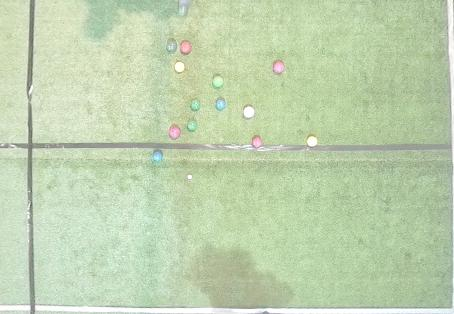blue: (216, 98, 226, 110), (152, 151, 163, 161)
green: (213, 76, 225, 88), (166, 40, 177, 52), (187, 120, 198, 131), (190, 99, 201, 110), (178, 5, 188, 16)
red: (169, 126, 181, 139), (273, 62, 285, 74), (243, 106, 255, 118), (180, 41, 191, 53), (252, 137, 263, 147)
vline: (1, 0, 37, 313), (443, 0, 453, 314)
white: (188, 175, 192, 179)
yellow: (307, 136, 317, 147), (175, 62, 185, 72)
